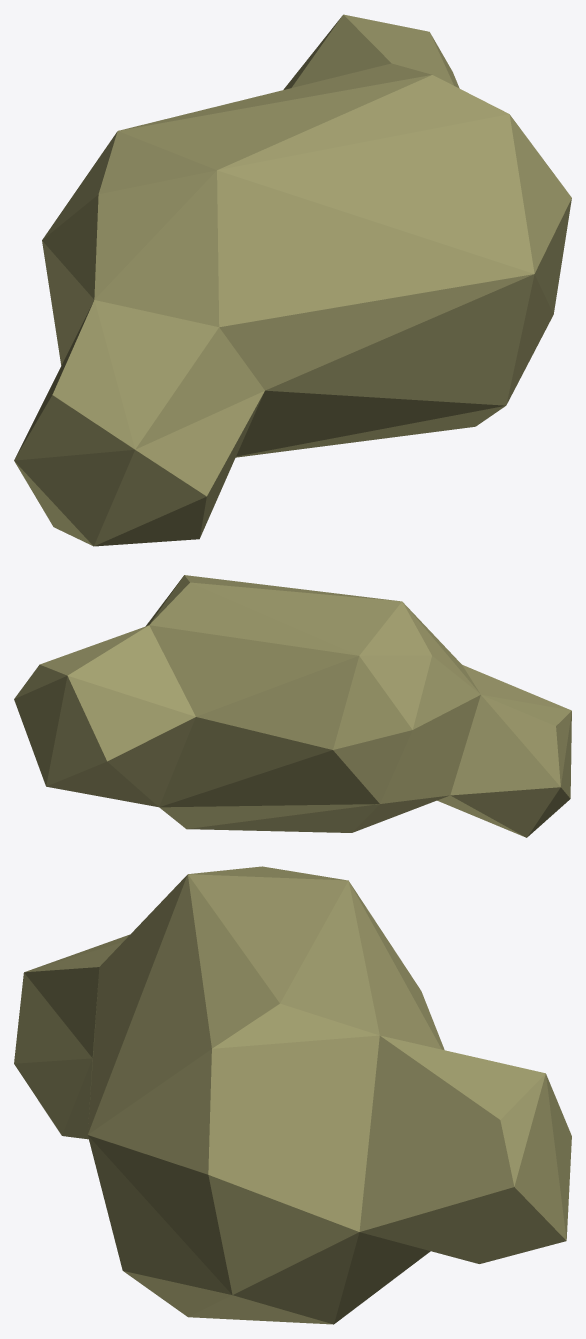
The model's file is DeadVegetationDecorationSmallCluster3.fbx.
3 views of the same model, one above another, from view 1: azimuth 30°, elevation 25°; view 2: azimuth 150°, elevation 25°; view 3: azimuth 270°, elevation 25° (orthographic). The views are drawn at different scales.
Visible parts, largest first — view 1: DeadVegetationDecorationSmallCluster3; view 2: DeadVegetationDecorationSmallCluster3; view 3: DeadVegetationDecorationSmallCluster3.
Boxes of the visible parts, x1,y1,x2,y2 form: DeadVegetationDecorationSmallCluster3: (14, 14, 571, 546); DeadVegetationDecorationSmallCluster3: (14, 575, 571, 837); DeadVegetationDecorationSmallCluster3: (14, 866, 571, 1324).
Size of the model in its own units: 473 by 246 by 373.
